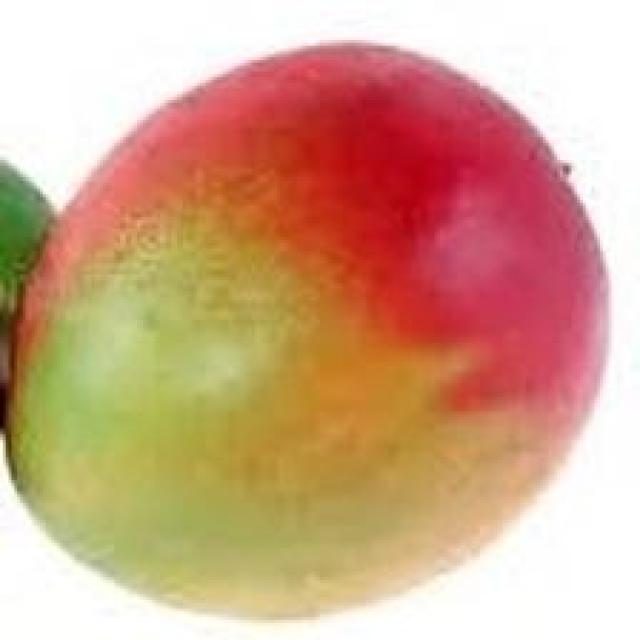Good_Mango: (0, 43, 609, 623)
